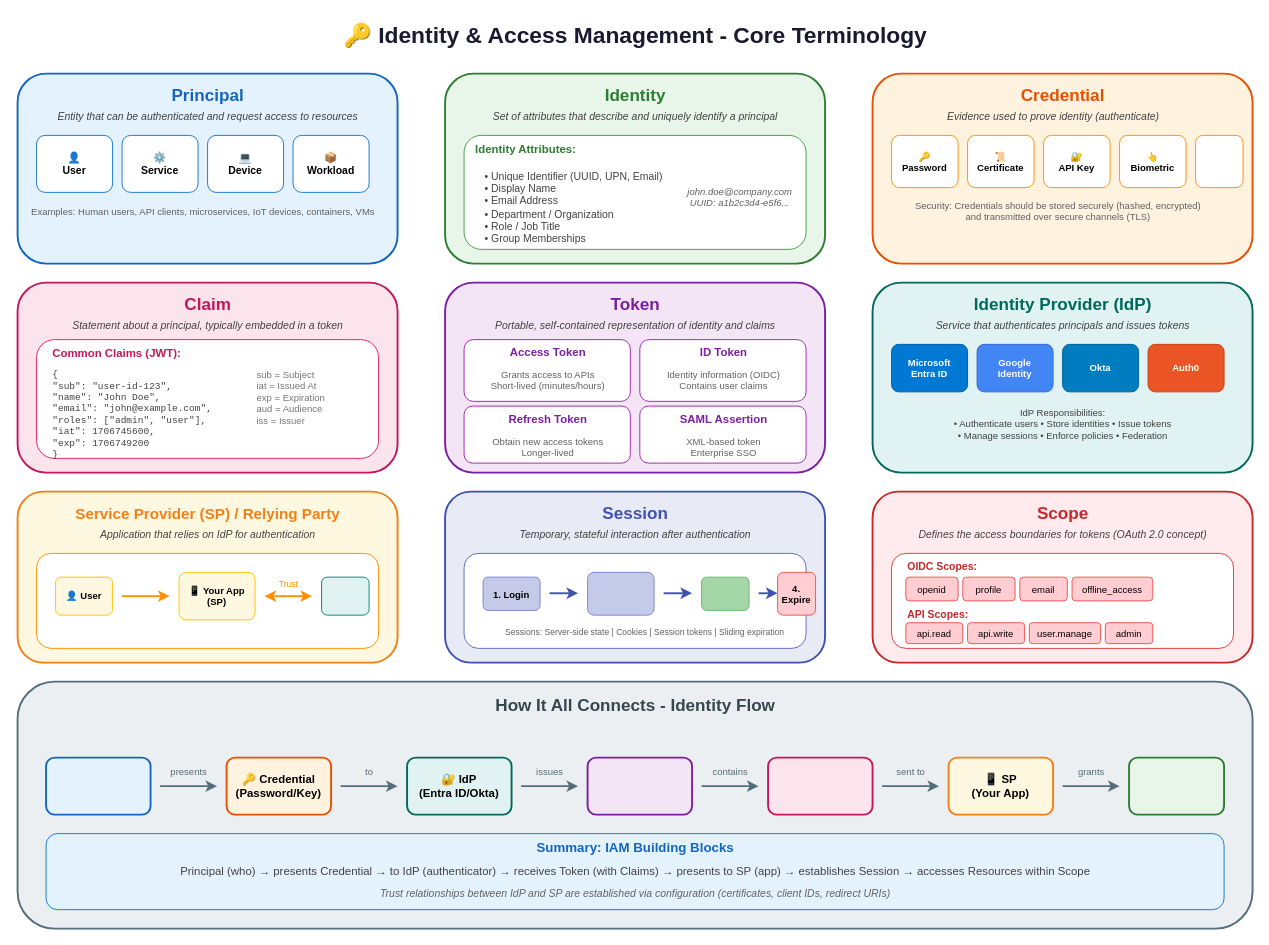
This 1269x945 diagram has some shape labels left out. Each missing label, with the centre of its shape:
2. Session Created: pixel 620 593
3. Active: pixel 725 593
✓ Access (Session): pixel 1176 785
🎫 Token (JWT/SAML): pixel 639 785
👤 Principal (User/Service): pixel 98 785
📋 Claims (Identity info): pixel 820 785
🔐 IdP: pixel 345 595
🔑 SSH Key: pixel 1219 161
